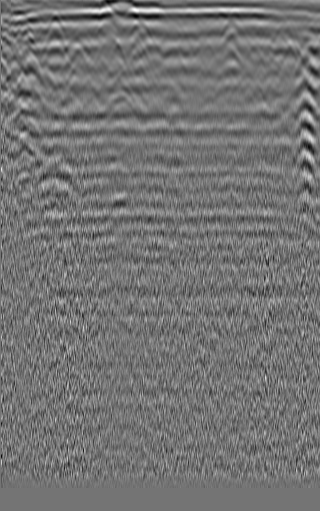가스: (97, 188, 134, 218)
상수: (16, 44, 44, 75)
오수: (283, 52, 318, 86)
우수: (124, 37, 168, 66)
